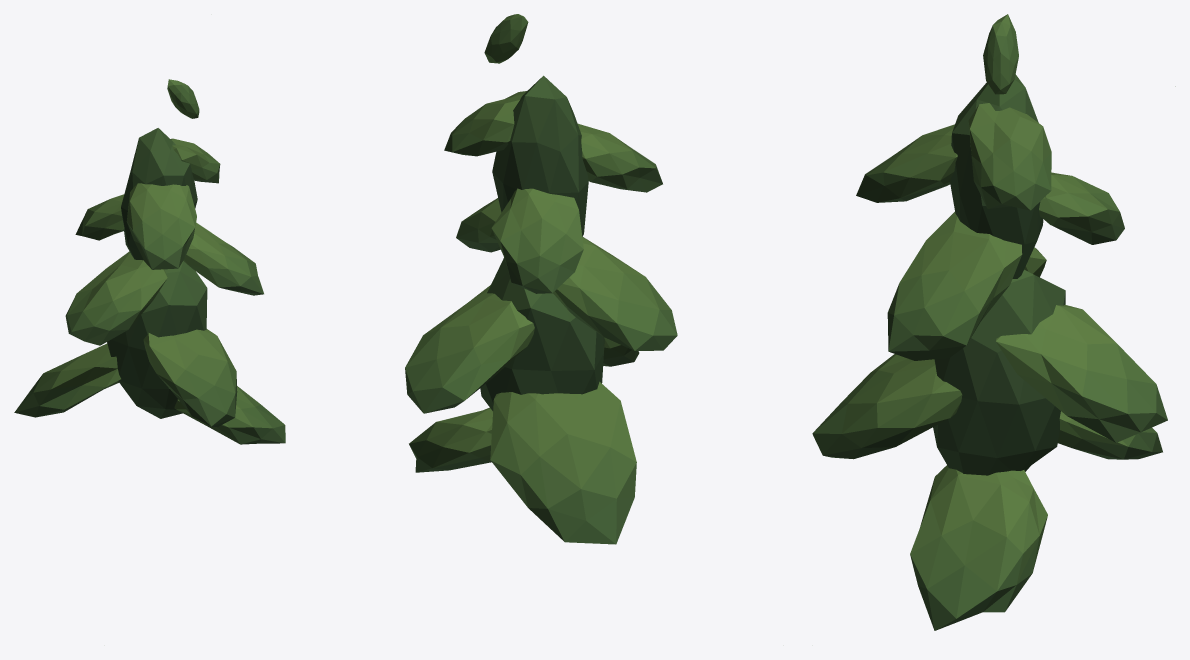
Rendered from Cedar_leaf.glb.
The picture shows the model from 3 angles, left to right: view 1: azimuth 30°, elevation 25°; view 2: azimuth 150°, elevation 25°; view 3: azimuth 270°, elevation 25°; orthographic projection. The views are drawn at different scales.
Parts seen in each view (by area): view 1: Cedar_leaf; view 2: Cedar_leaf; view 3: Cedar_leaf.
Boxes of the visible parts, x1,y1,x2,y2 form: Cedar_leaf: (14,79,285,444); Cedar_leaf: (405,14,677,544); Cedar_leaf: (812,14,1175,630).
Bounding box in the file's own units: 9.37 × 19.01 × 8.61.
